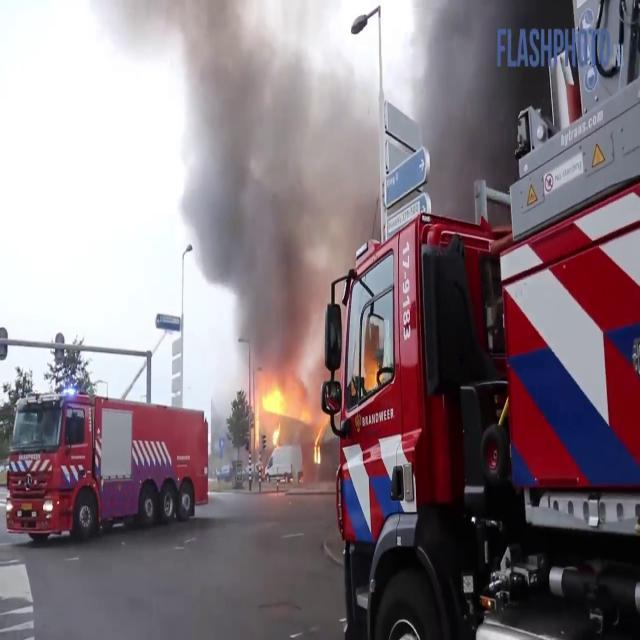Fire: (250, 368, 314, 446)
Smoke: (163, 0, 368, 348), (408, 0, 532, 210)
